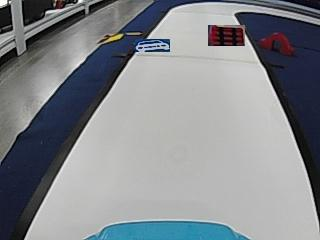bridge: (261, 31, 293, 54)
